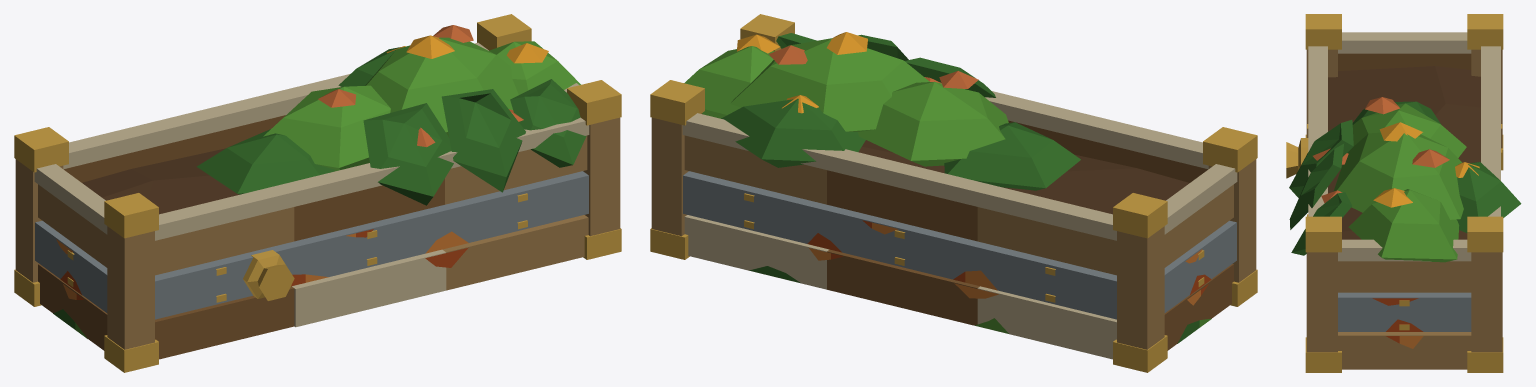
File: ledge-planter-box-2f38f5.glb
3 views of the same model, side by side, from view 1: azimuth 30°, elevation 25°; view 2: azimuth 150°, elevation 25°; view 3: azimuth 270°, elevation 25° (orthographic). The views are drawn at different scales.
Visible parts, largest first — view 1: planter-box; view 2: planter-box; view 3: planter-box.
Boxes of the visible parts, x1,y1,x2,y2 form: planter-box: (14,14,621,372); planter-box: (650,14,1257,372); planter-box: (1286,14,1521,372).
Bounding box in the file's own units: 1.22 × 0.4877 × 0.5471.
